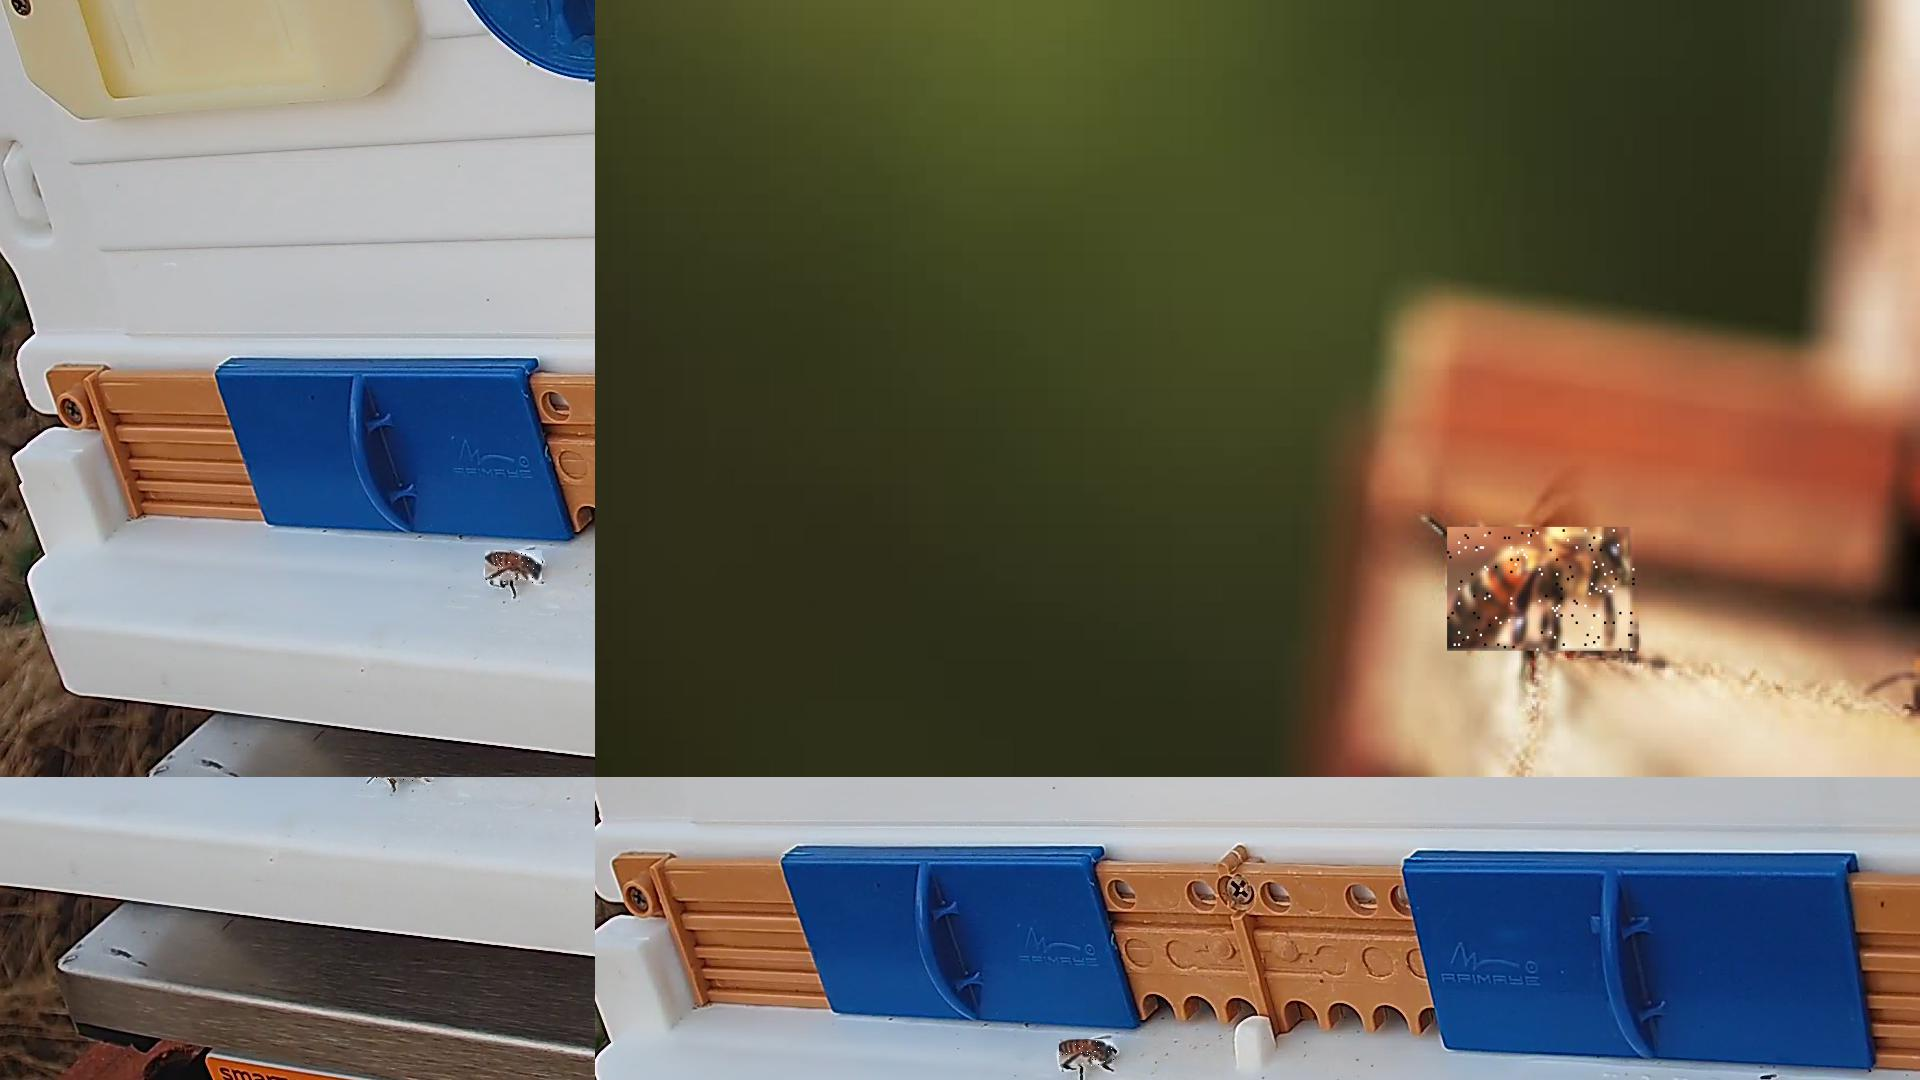bee: (1449, 527, 1640, 654), (485, 551, 543, 585), (1060, 1040, 1117, 1069), (376, 777, 439, 783)
